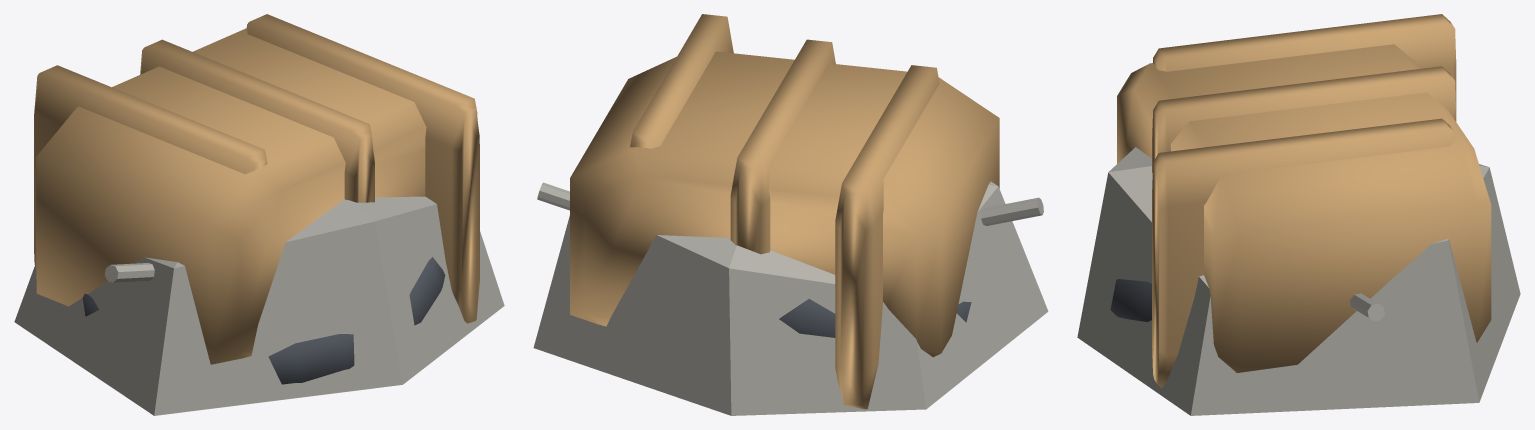
Rendered from debris.glb.
The picture shows the model from 3 angles, left to right: view 1: azimuth 30°, elevation 25°; view 2: azimuth 150°, elevation 25°; view 3: azimuth 270°, elevation 25°; orthographic projection. The views are drawn at different scales.
Visible parts, largest first — view 1: debris3, debris1, debris2; view 2: debris3, debris1, debris2; view 3: debris3, debris1, debris2.
Boxes of the visible parts, x1,y1,x2,y2 form: debris3: [34, 14, 479, 364]; debris1: [14, 196, 504, 415]; debris2: [82, 257, 445, 384]; debris3: [570, 14, 999, 409]; debris1: [533, 181, 1048, 415]; debris2: [779, 299, 971, 337]; debris3: [1117, 14, 1491, 388]; debris1: [1077, 147, 1520, 415]; debris2: [1110, 279, 1151, 321].
Bounding box in the file's own units: 0.9538 × 0.495 × 0.86.
